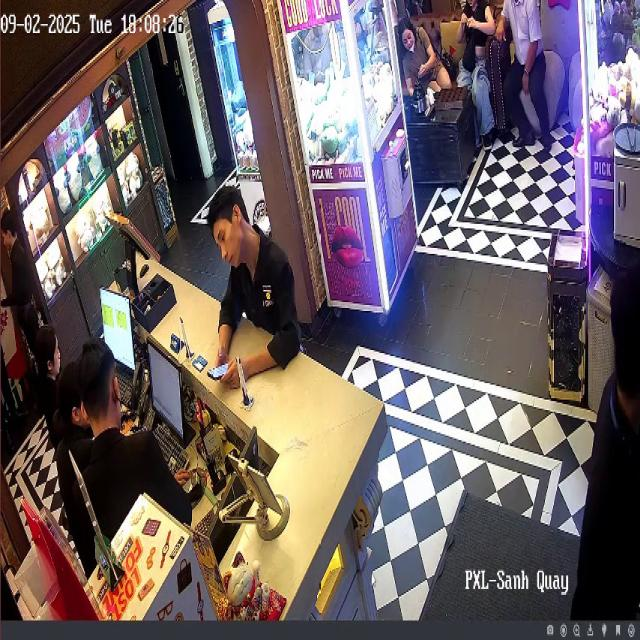khach: (494, 0, 560, 157), (447, 0, 502, 172), (395, 12, 454, 110)
nhan vien: (205, 184, 320, 410), (79, 320, 184, 530), (2, 199, 58, 405), (31, 318, 66, 559), (61, 343, 96, 531)
